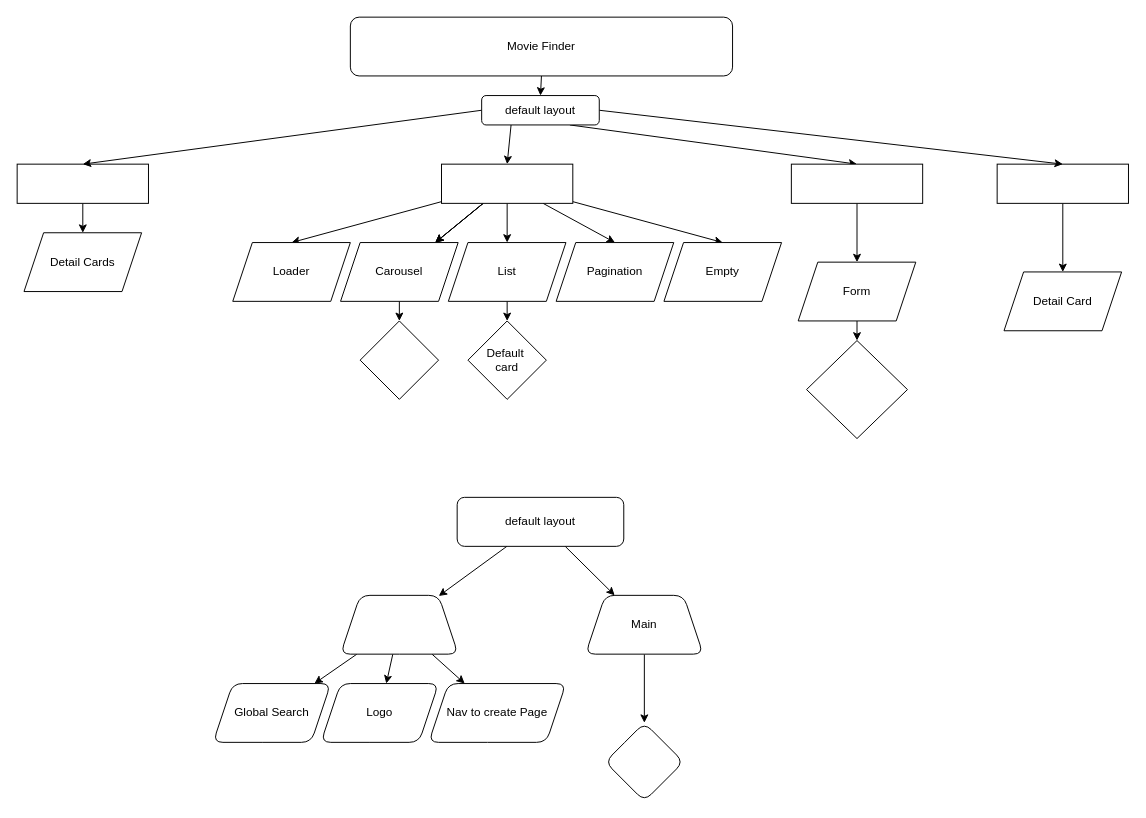
The diagram is 1146 pixels wide and 818 high, and some of its shapes have lost their labels. The centre of each missing label's shape, as x and y in pixels:
"Create Page" belongs at (x=856, y=183).
"Detail Page" belongs at (x=1062, y=183).
"Header" belongs at (x=399, y=624).
"Home Page" belongs at (x=82, y=183).
"Pages" belongs at (x=644, y=761).
"Result Page" belongs at (x=507, y=183).
"Slide" belongs at (x=399, y=359).
"Upload Image" belongs at (x=856, y=389).
